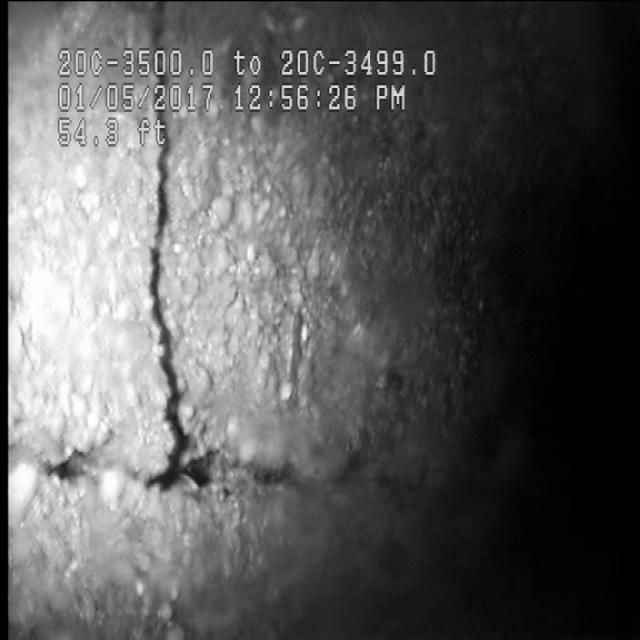Crack: (97, 158, 367, 546)
